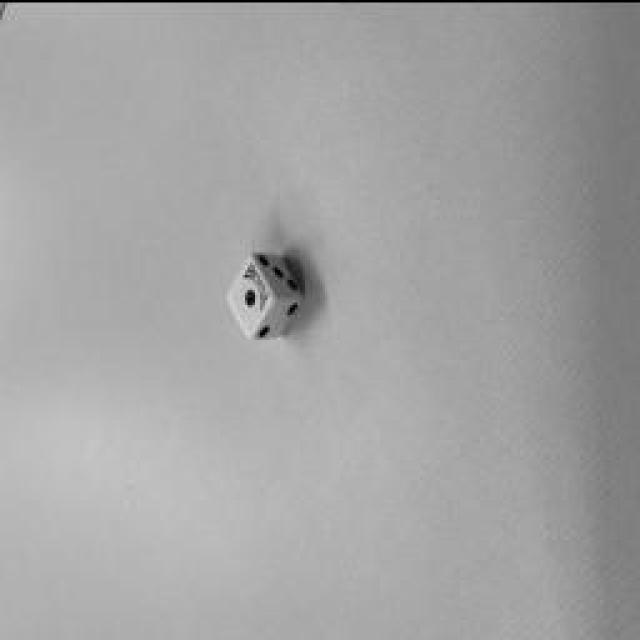dice_1: (228, 252, 272, 332)
